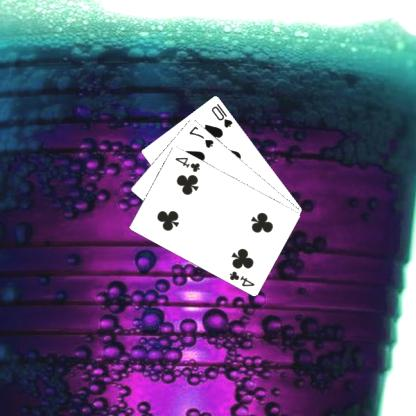10S: (210, 100, 235, 129)
4C: (228, 268, 258, 288), (174, 154, 203, 173)
7S: (188, 123, 217, 149)
